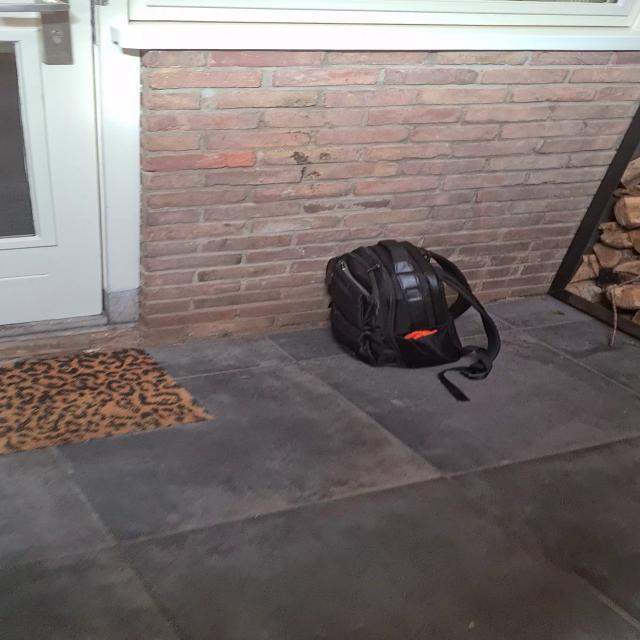backpack: (314, 237, 496, 375)
